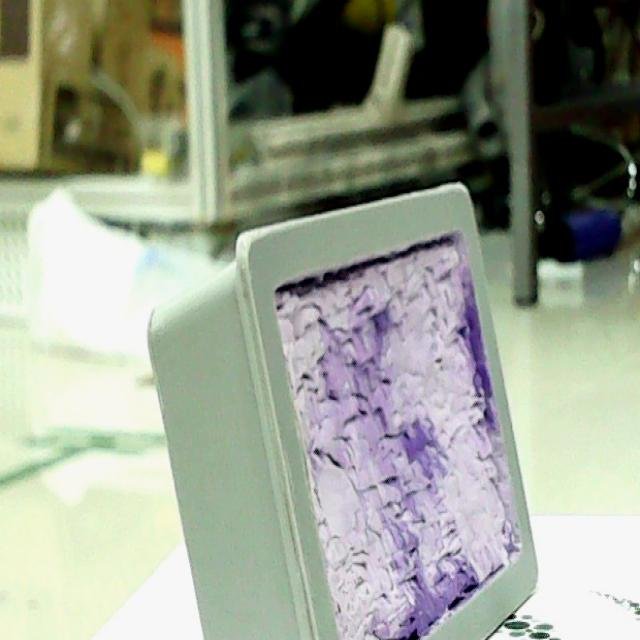block: (152, 185, 537, 640)
